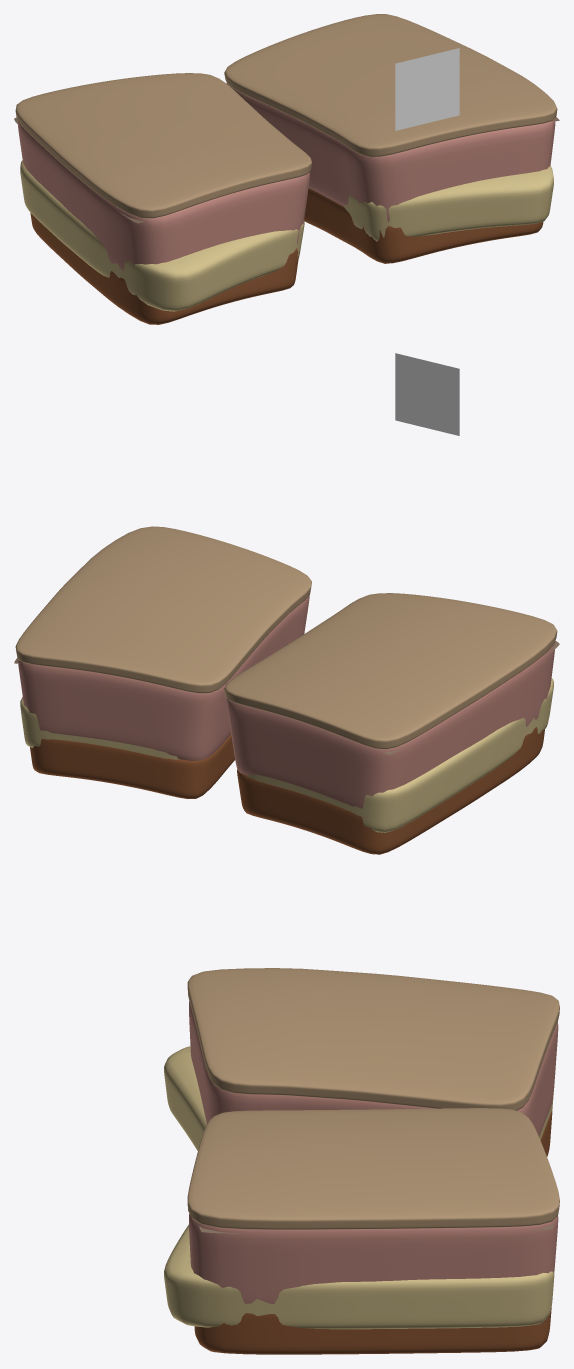
The model's file is Skinblend.dae.
3 renders of one model, top to bottom at view 1: azimuth 30°, elevation 25°; view 2: azimuth 150°, elevation 25°; view 3: azimuth 270°, elevation 25°, orthographic. The views are drawn at different scales.
Visible parts, largest first — view 1: Skin_Top, Skin_Pink, Skin_Yellow, Skin_Red, Curving_Plane; view 2: Skin_Top, Skin_Pink, Skin_Red, Skin_Yellow, Curving_Plane; view 3: Skin_Top, Skin_Pink, Skin_Yellow, Skin_Red.
Part boxes in pixels (x1,y1,x2,y2): Skin_Top: (15, 14, 557, 218); Skin_Pink: (18, 83, 555, 270); Skin_Yellow: (20, 160, 553, 311); Skin_Red: (30, 188, 543, 324); Curving_Plane: (395, 48, 459, 130); Skin_Top: (15, 526, 557, 749); Skin_Pink: (18, 595, 555, 808); Skin_Red: (30, 727, 544, 854); Skin_Yellow: (20, 678, 553, 832); Curving_Plane: (395, 353, 459, 435); Skin_Top: (187, 968, 559, 1229); Skin_Pink: (189, 1001, 558, 1303); Skin_Yellow: (164, 1046, 554, 1329); Skin_Red: (194, 1109, 552, 1354).
Bounding box in the file's own units: 13.45 × 12.33 × 8.72.
